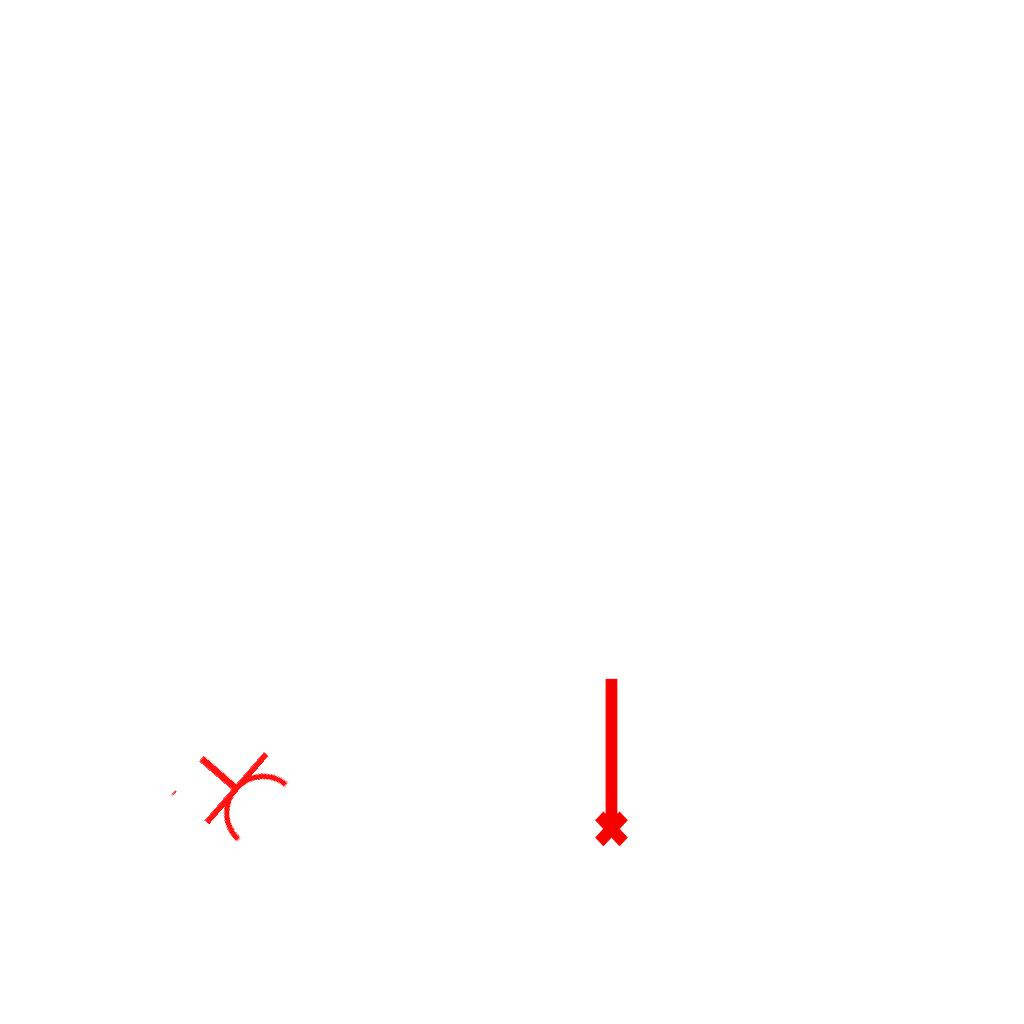ASR_Ansaugoeffnung: (586, 673, 632, 849)
Schukosteckdose_einfach: (165, 720, 298, 854)
